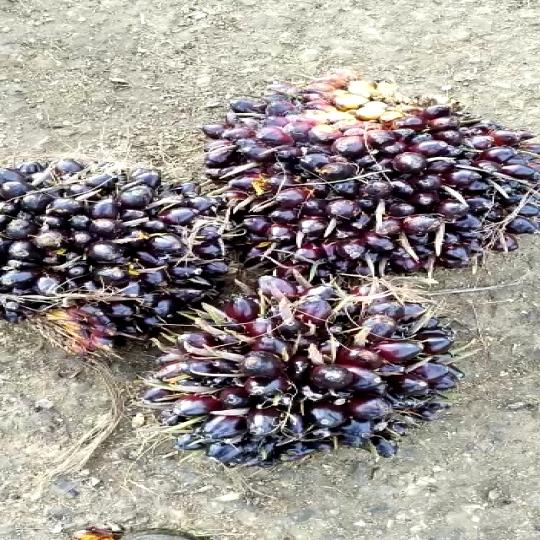mentah: (160, 70, 540, 302), (109, 277, 486, 465), (0, 133, 232, 325)
